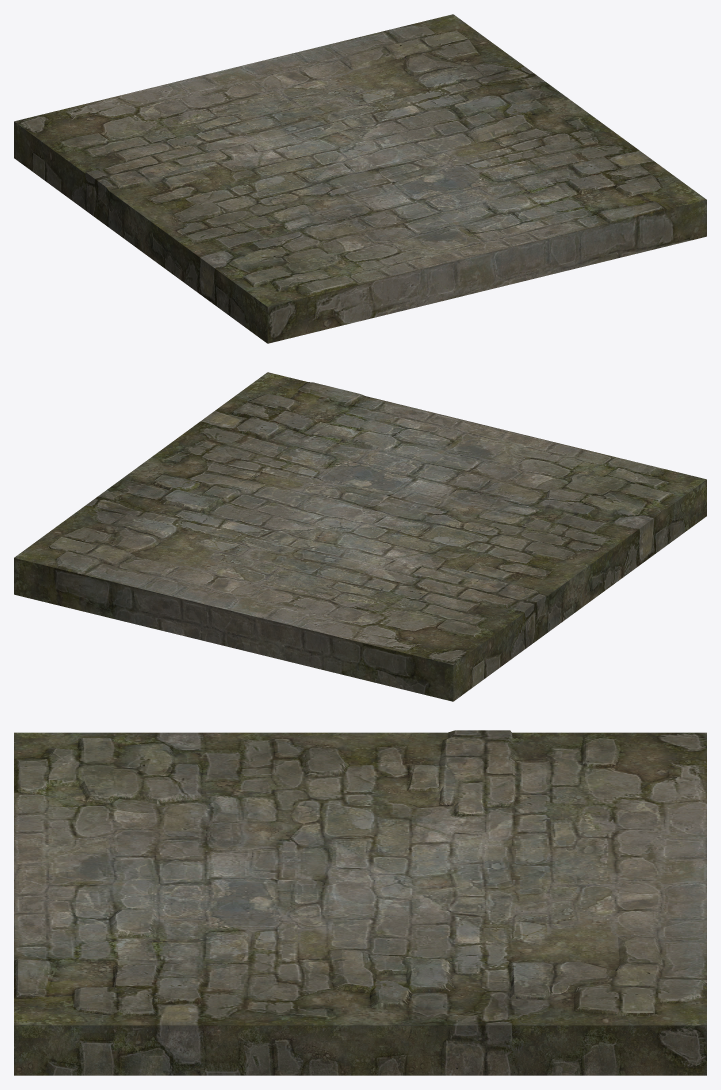
File: bg_lut_lutomb_floorpattern01_sm_old.FBX
3 views of the same model, one above another, from view 1: azimuth 30°, elevation 25°; view 2: azimuth 150°, elevation 25°; view 3: azimuth 270°, elevation 25° (orthographic). The views are drawn at different scales.
Parts seen in each view (by area): view 1: bg_lut_lutomb_floorpattern01_sm_old; view 2: bg_lut_lutomb_floorpattern01_sm_old; view 3: bg_lut_lutomb_floorpattern01_sm_old.
Part boxes in pixels (bbox=[...]): bg_lut_lutomb_floorpattern01_sm_old: bbox=[14, 14, 706, 343]; bg_lut_lutomb_floorpattern01_sm_old: bbox=[14, 372, 706, 701]; bg_lut_lutomb_floorpattern01_sm_old: bbox=[14, 730, 706, 1075].
Size of the model in its own units: 800 by 69.15 by 800.
